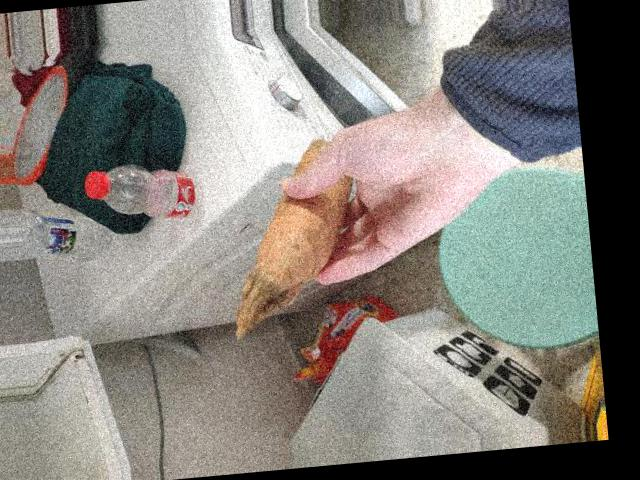sweet_potato: (244, 154, 374, 286)
